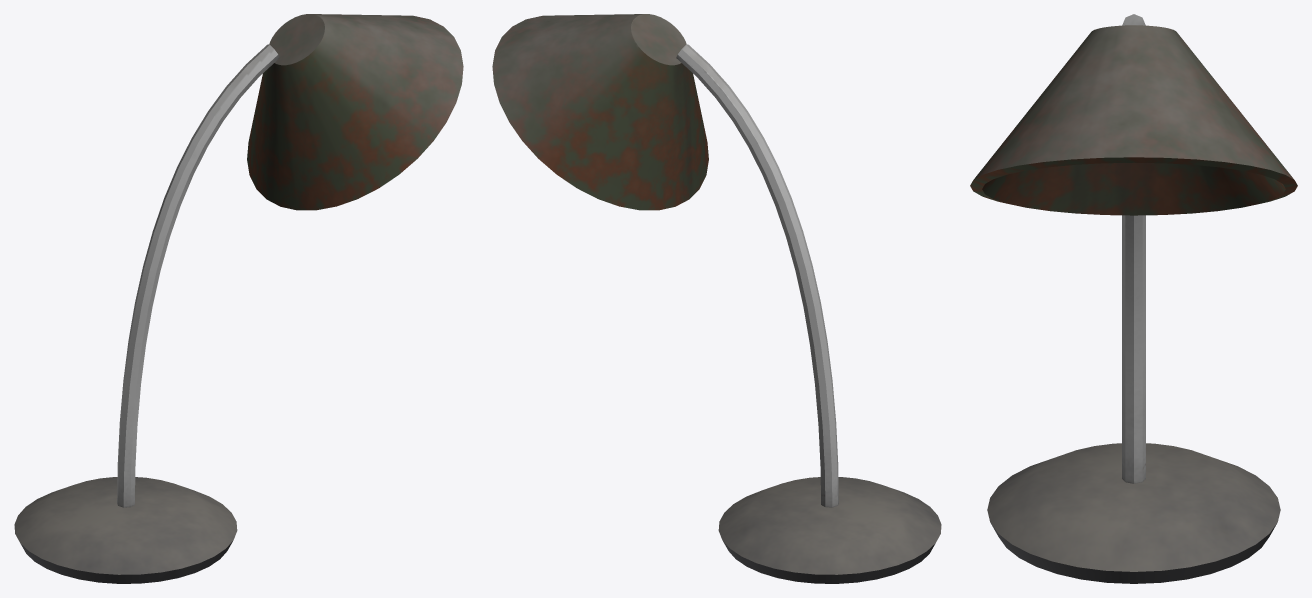
The model's file is SM_DeskLamp.fbx.
3 renders of one model, left to right at view 1: azimuth 30°, elevation 25°; view 2: azimuth 150°, elevation 25°; view 3: azimuth 270°, elevation 25°, orthographic. The views are drawn at different scales.
Parts seen in each view (by area): view 1: SM_DeskLamp; view 2: SM_DeskLamp; view 3: SM_DeskLamp.
Part boxes in pixels (box(x1,y1,x2,y2)): SM_DeskLamp: box(14, 14, 463, 583); SM_DeskLamp: box(492, 14, 941, 583); SM_DeskLamp: box(970, 14, 1297, 583).
Bounding box in the file's own units: 0.3644 × 0.3993 × 0.19.
1 material, 1 textured.
